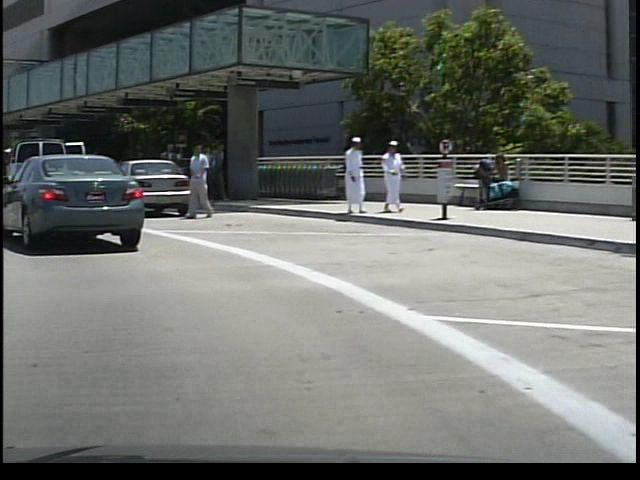person: (181, 137, 215, 226), (376, 134, 407, 216), (337, 132, 364, 219)
